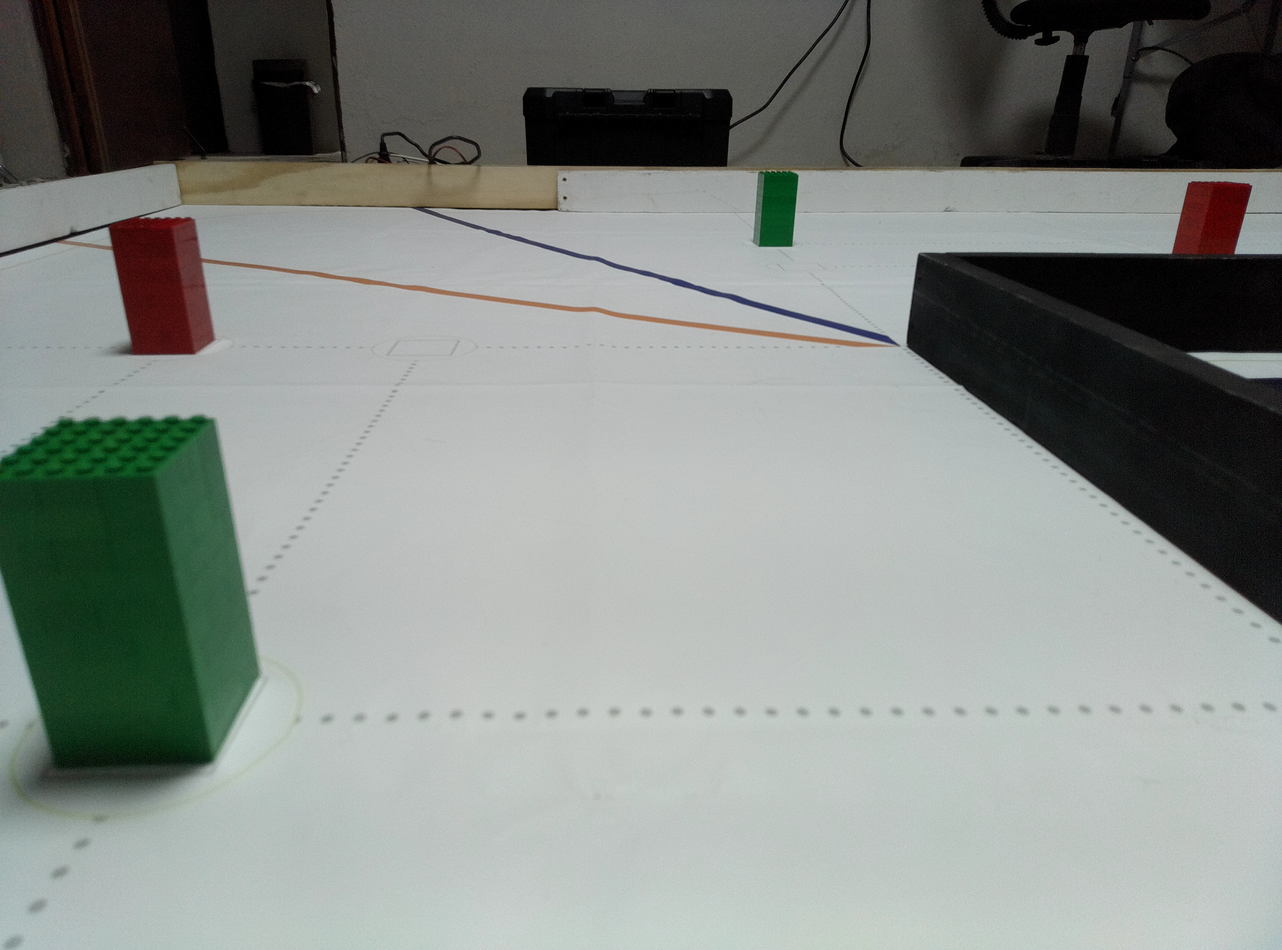greenbox: (0, 415, 265, 771), (752, 171, 800, 248)
redbox: (106, 216, 217, 356), (1170, 180, 1255, 254)
